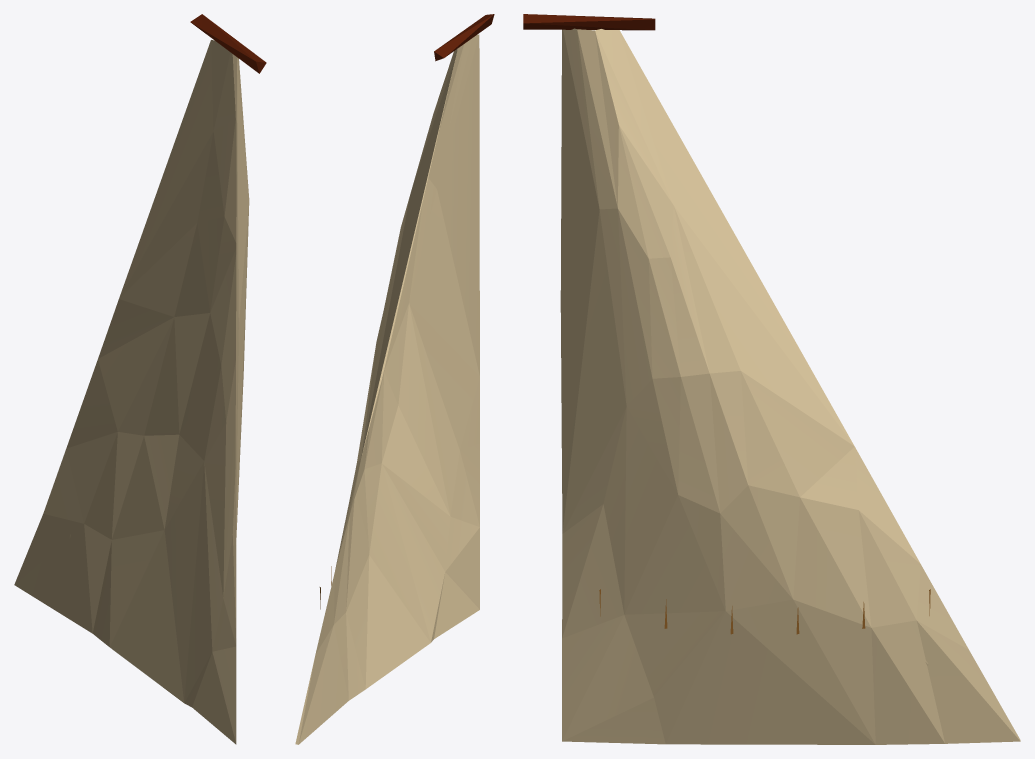
File: upgrade_canvas_mainsail.three-web-toon.lod25.glb
3 renders of one model, left to right at view 1: azimuth 30°, elevation 25°; view 2: azimuth 150°, elevation 25°; view 3: azimuth 270°, elevation 25°, orthographic. The views are drawn at different scales.
Visible parts, largest first — view 1: upgrade_canvas_mainsail_mesh_lod; view 2: upgrade_canvas_mainsail_mesh_lod; view 3: upgrade_canvas_mainsail_mesh_lod.
Boxes of the visible parts, box(x1,y1,x2,y2) form: upgrade_canvas_mainsail_mesh_lod: box(14, 14, 266, 744); upgrade_canvas_mainsail_mesh_lod: box(295, 14, 494, 744); upgrade_canvas_mainsail_mesh_lod: box(523, 14, 1020, 744).
Size of the model in its own units: 0.6064 by 7.31 by 4.53.
